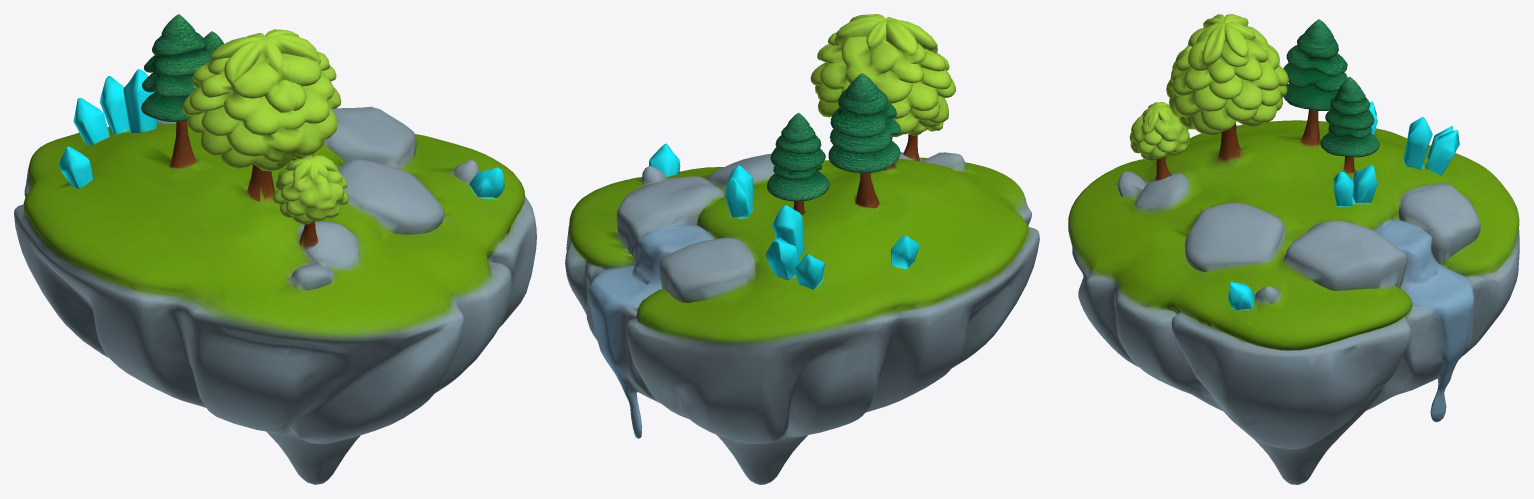
File: float_isle.glb
3 renders of one model, left to right at view 1: azimuth 30°, elevation 25°; view 2: azimuth 150°, elevation 25°; view 3: azimuth 270°, elevation 25°, orthographic. The views are drawn at different scales.
Parts seen in each view (by area): view 1: tripo_node_e292c11f-4367-4695-af5b-92c8297f3b45; view 2: tripo_node_e292c11f-4367-4695-af5b-92c8297f3b45; view 3: tripo_node_e292c11f-4367-4695-af5b-92c8297f3b45.
Part boxes in pixels (x1,y1,x2,y2): tripo_node_e292c11f-4367-4695-af5b-92c8297f3b45: (14,14,536,484); tripo_node_e292c11f-4367-4695-af5b-92c8297f3b45: (565,14,1039,484); tripo_node_e292c11f-4367-4695-af5b-92c8297f3b45: (1068,14,1519,484).
Size of the model in its own units: 9.67 by 10 by 9.67.
1 material, 1 textured.
